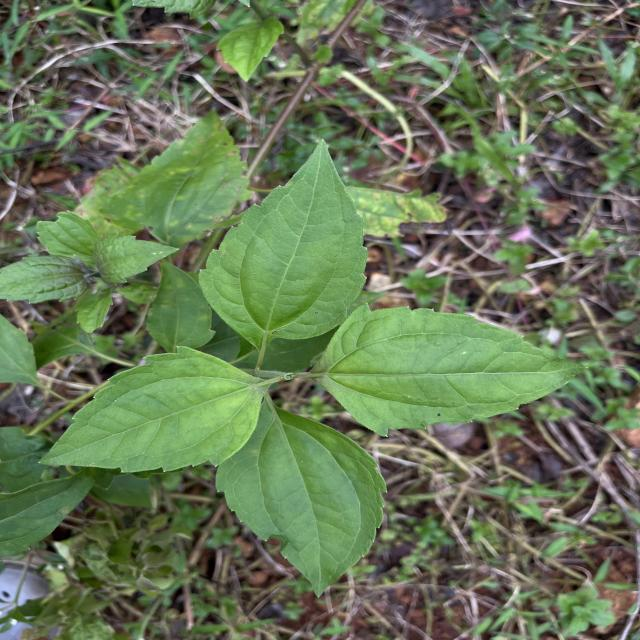Chromolaena odorata: (306, 298, 594, 443), (194, 136, 372, 354), (210, 402, 392, 602), (29, 341, 276, 476)
